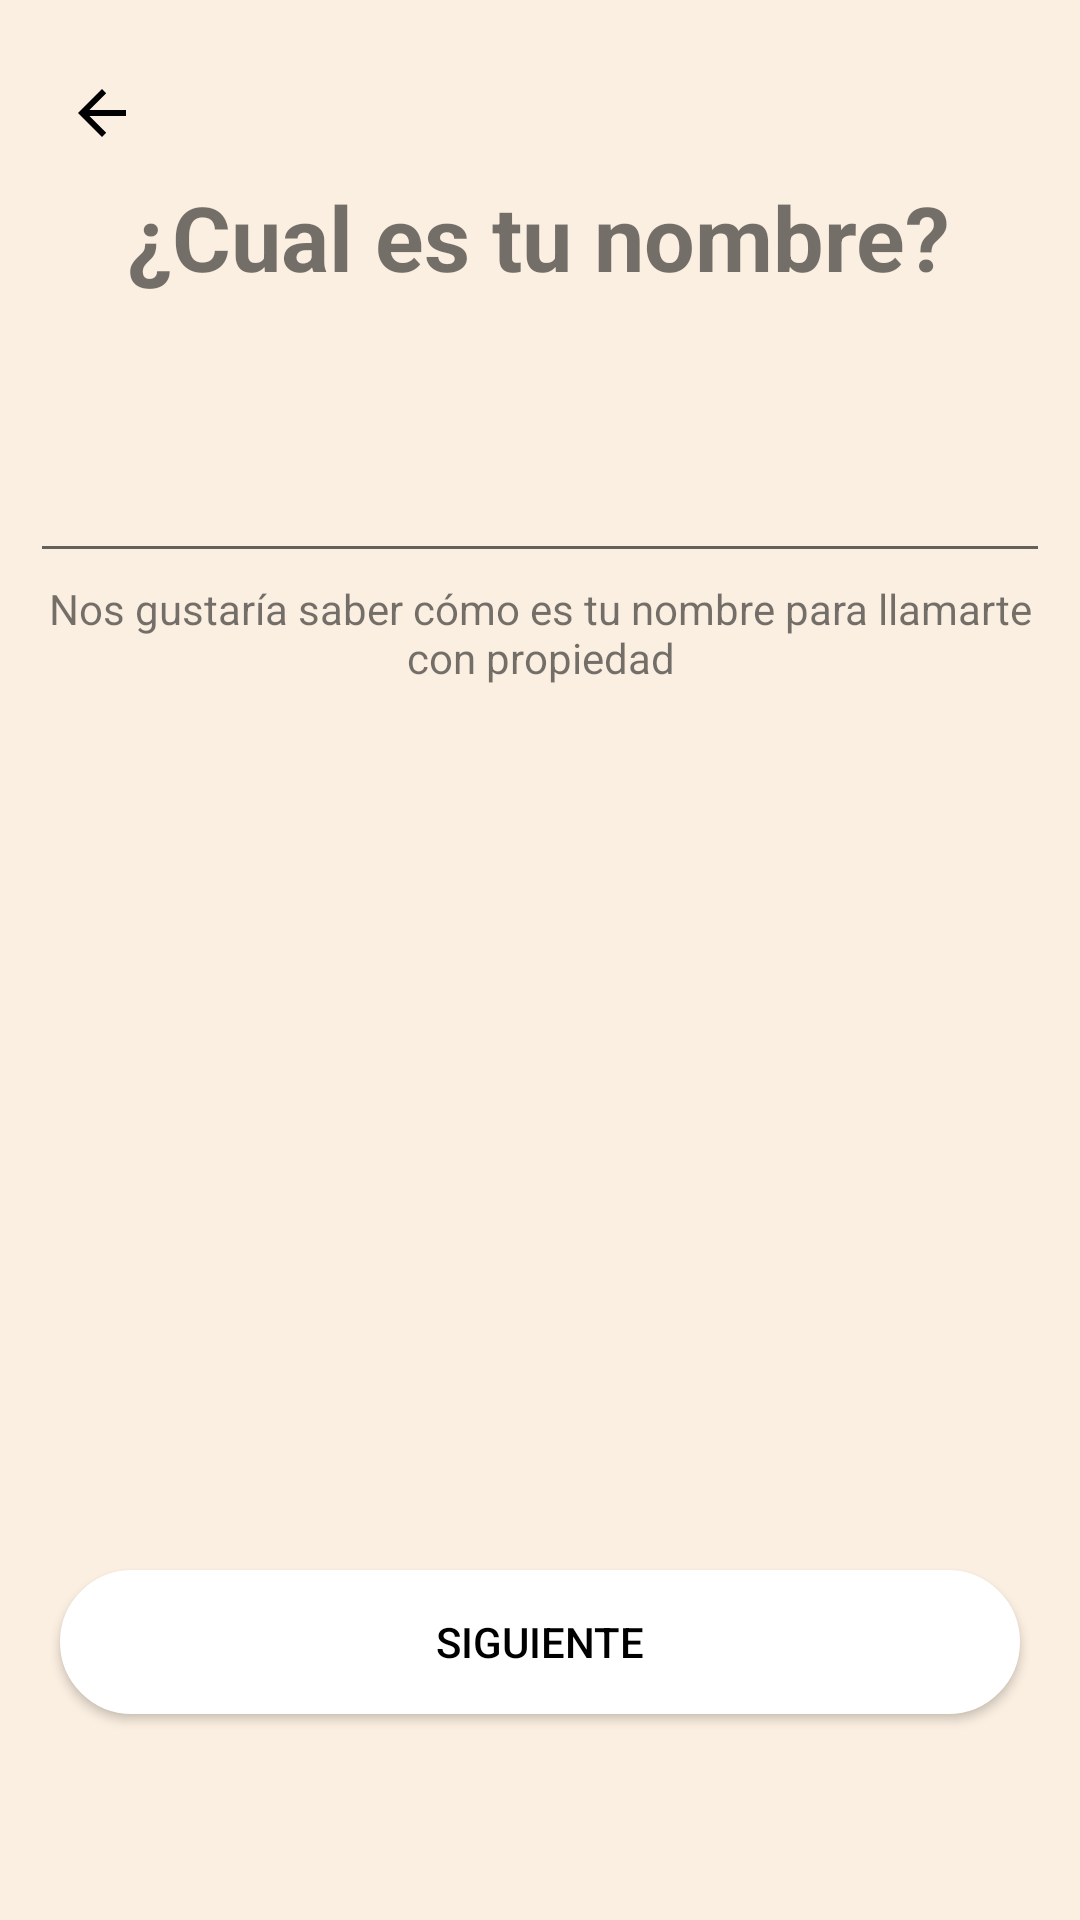

Screen size 1080w x 1920h. Icon name, then its center in pixels as (x=x, y=y):
Volver atras: (x=102, y=113)
